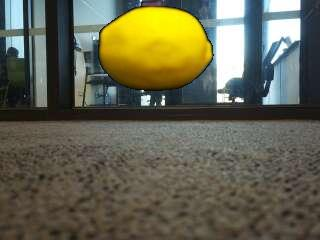lemon: (101, 8, 213, 91)
